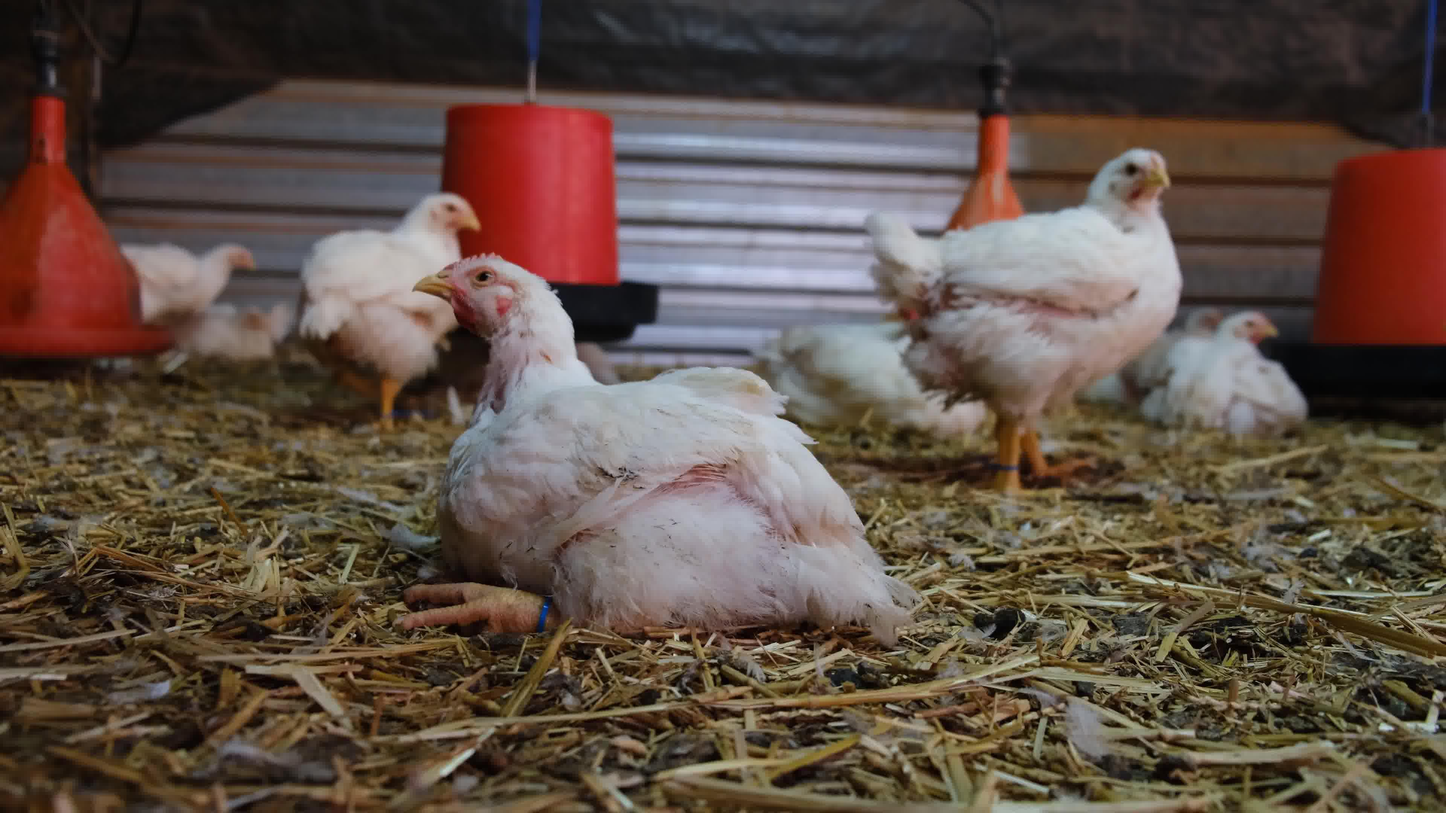AbNormal: (399, 254, 915, 638), (731, 295, 1005, 452), (1190, 311, 1316, 455), (1160, 295, 1256, 414), (183, 288, 296, 369)
Normal: (845, 147, 1186, 501), (294, 183, 510, 418), (96, 233, 273, 324)
